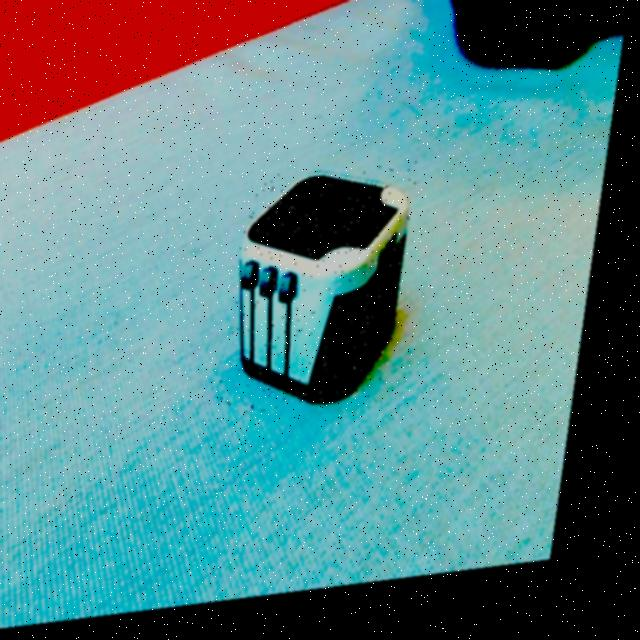adapter: (229, 169, 425, 424)
